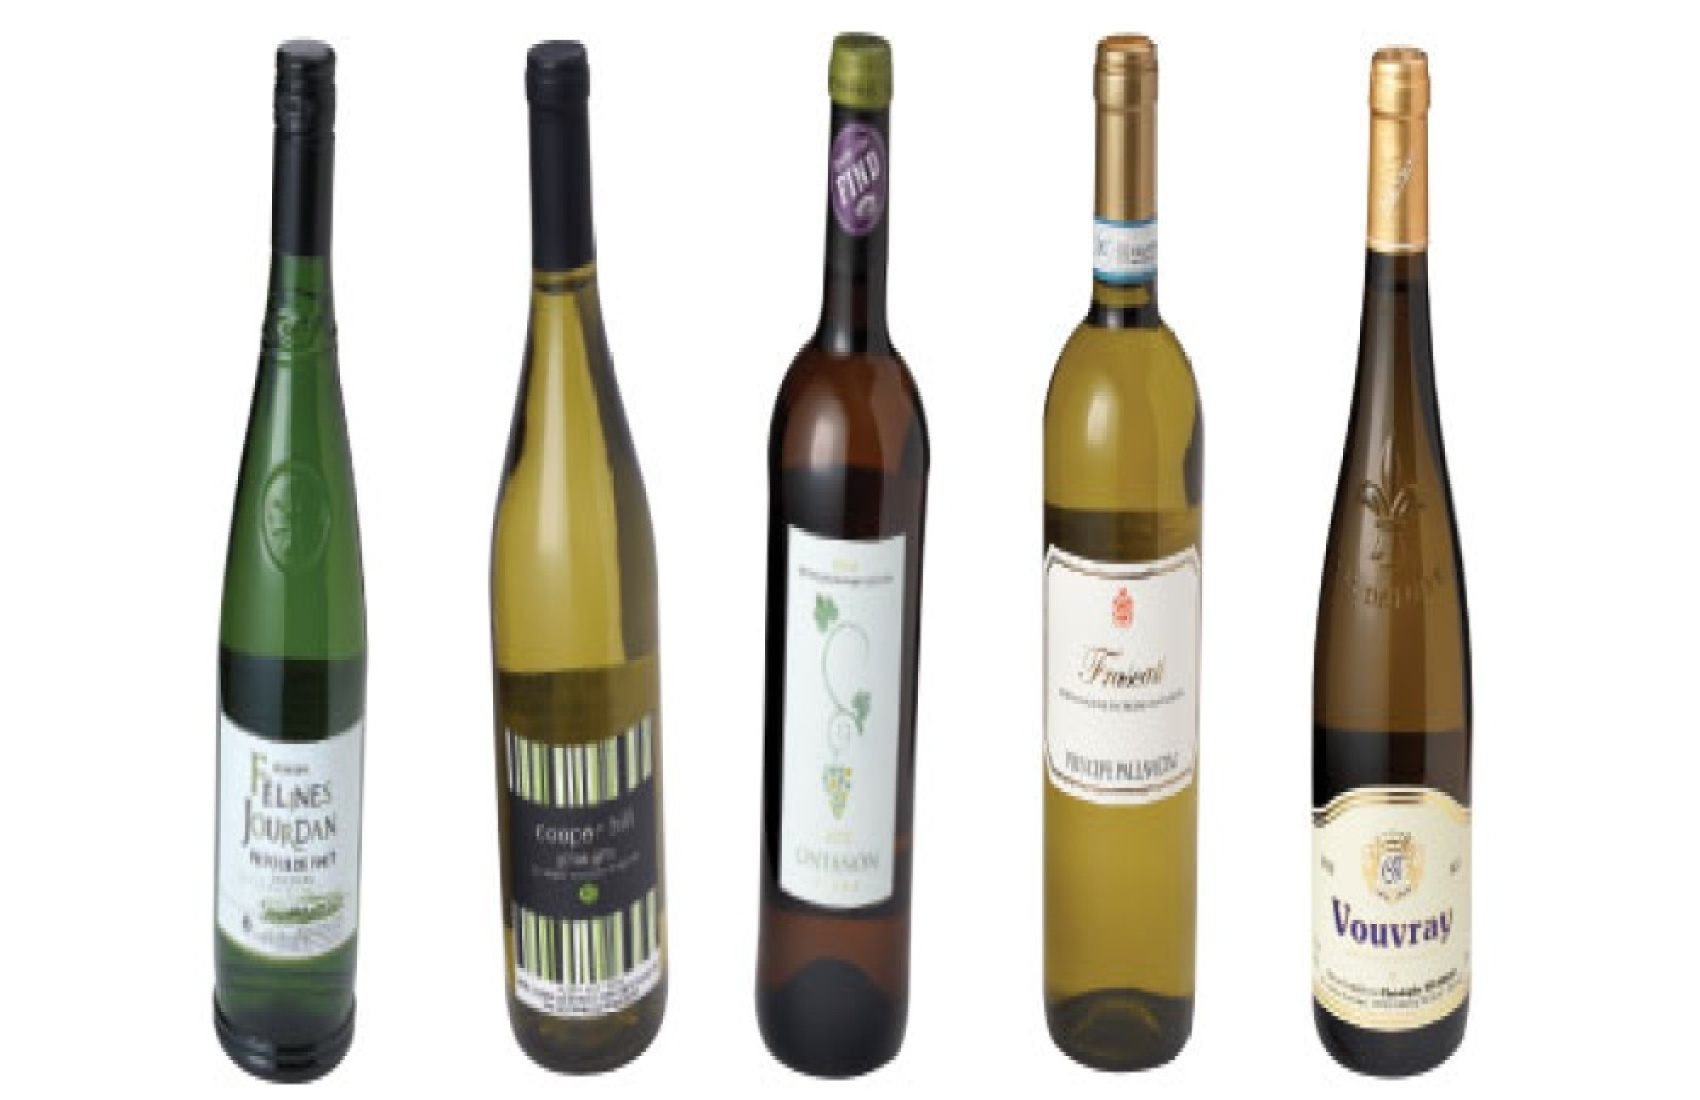wine: (1041, 43, 1199, 1062), (506, 45, 664, 1063), (217, 55, 375, 1072), (1317, 51, 1474, 1069), (760, 33, 917, 1050)
